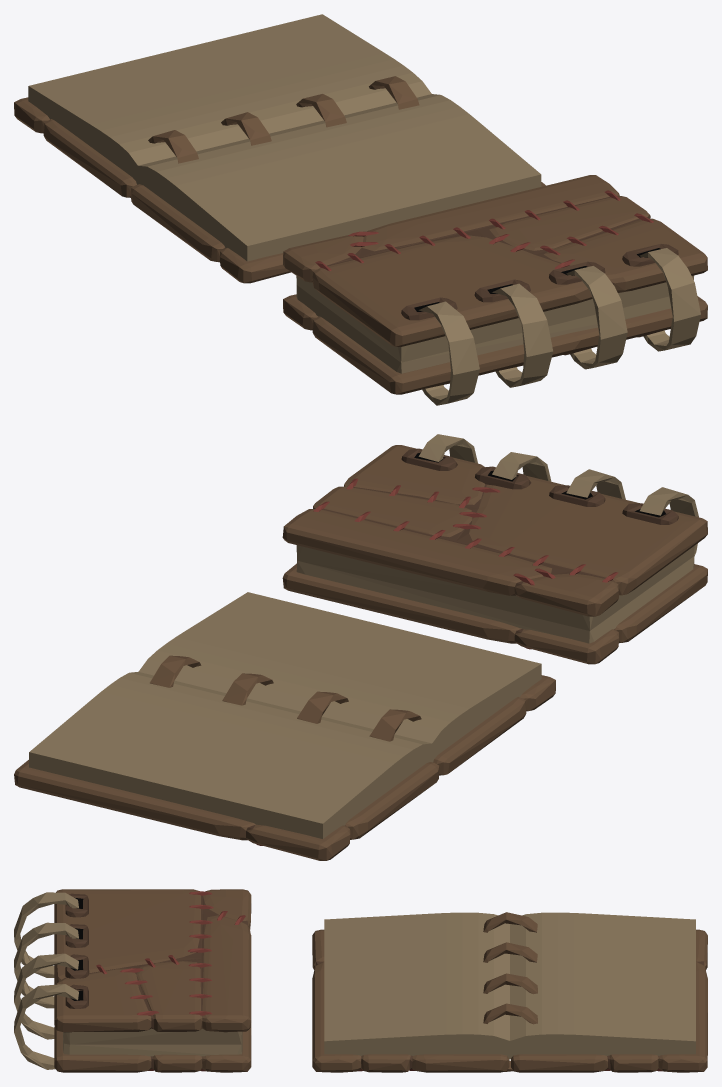
File: book.gltf
The picture shows the model from 3 angles, top to bottom: view 1: azimuth 30°, elevation 25°; view 2: azimuth 150°, elevation 25°; view 3: azimuth 270°, elevation 25°; orthographic projection. The views are drawn at different scales.
Parts seen in each view (by area): view 1: book2 open, book2; view 2: book2 open, book2; view 3: book2 open, book2.
Boxes of the visible parts, bbox=[...] form: book2 open: bbox=[14, 14, 545, 283]; book2: bbox=[283, 175, 707, 405]; book2 open: bbox=[14, 592, 555, 860]; book2: bbox=[282, 434, 707, 664]; book2 open: bbox=[312, 912, 707, 1072]; book2: bbox=[14, 889, 251, 1072].
Bounding box in the file's own units: 0.3659 × 0.106 × 0.8159.
